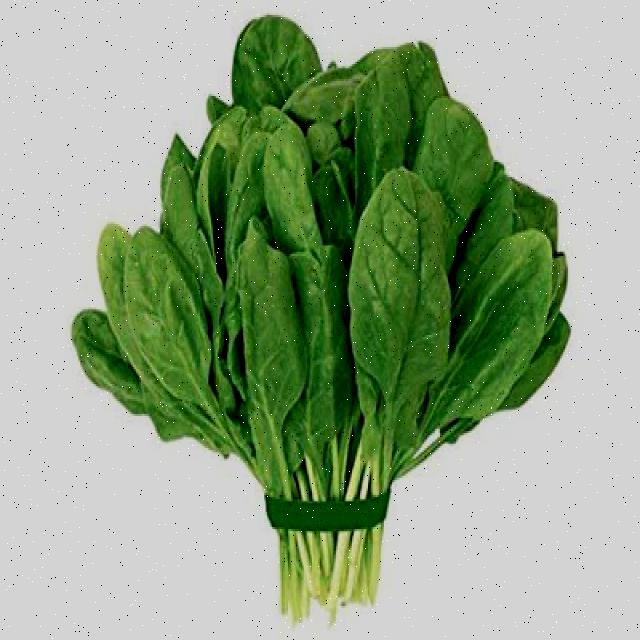Indian Spinach: (62, 16, 574, 640)
